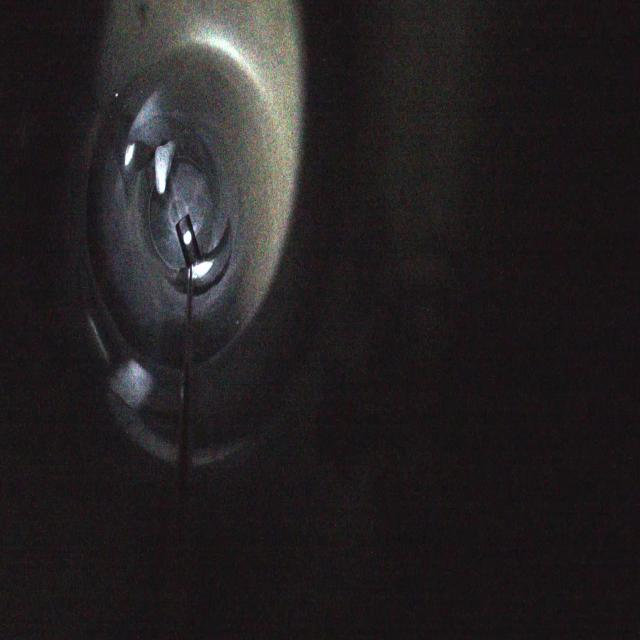impurity: (147, 132, 180, 200)
